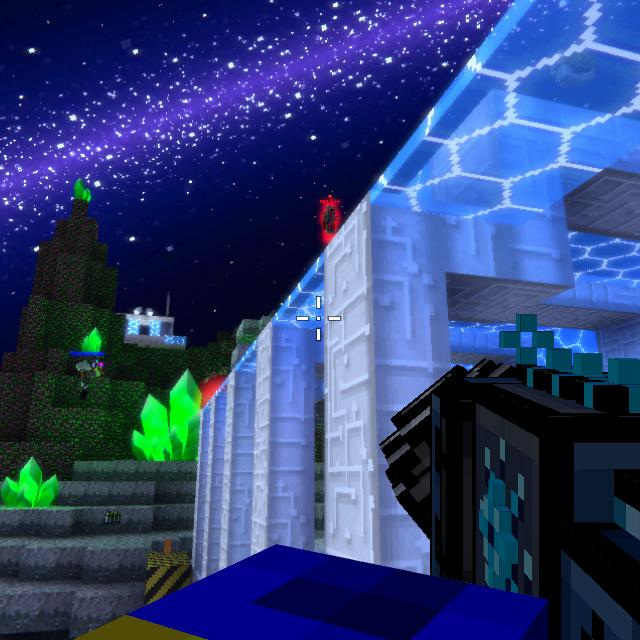Enemy: (322, 206, 338, 234)
